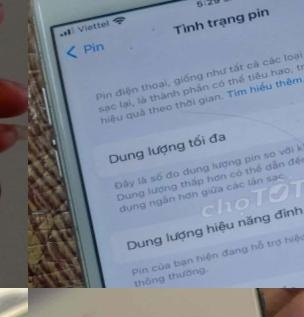scratch: (114, 10, 173, 53)
